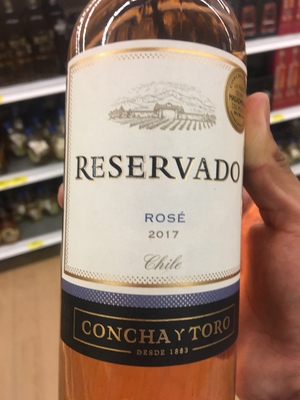reservado rose: (61, 5, 245, 400)
